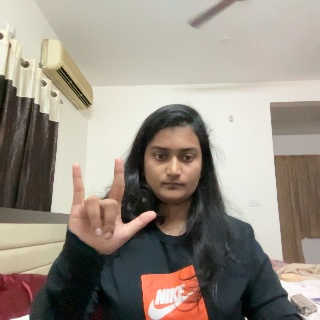I Love You: (66, 157, 156, 265)
